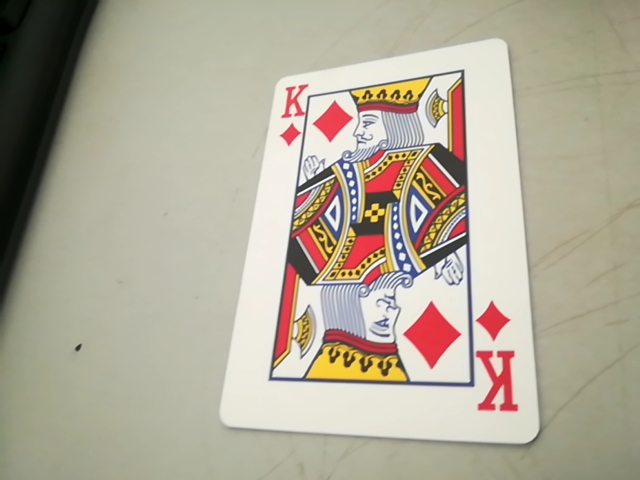fk k: (476, 301, 521, 421), (271, 79, 308, 146)
